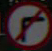Don't turn right: (9, 6, 43, 41)
